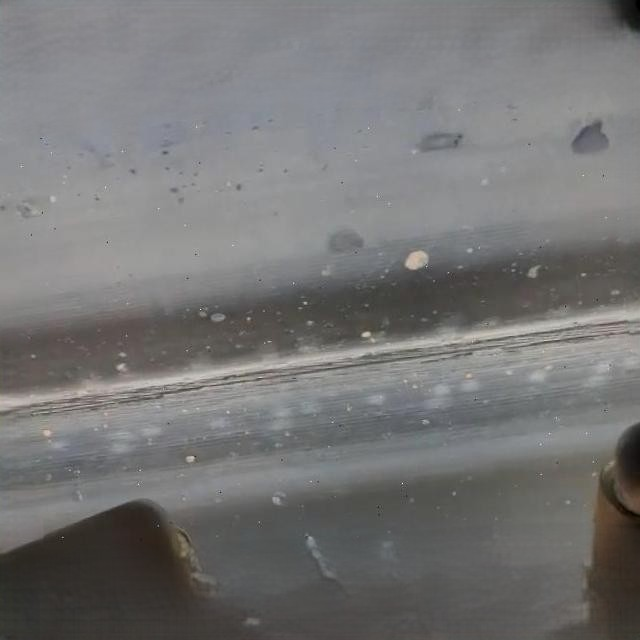Wear: (0, 305, 640, 423)
